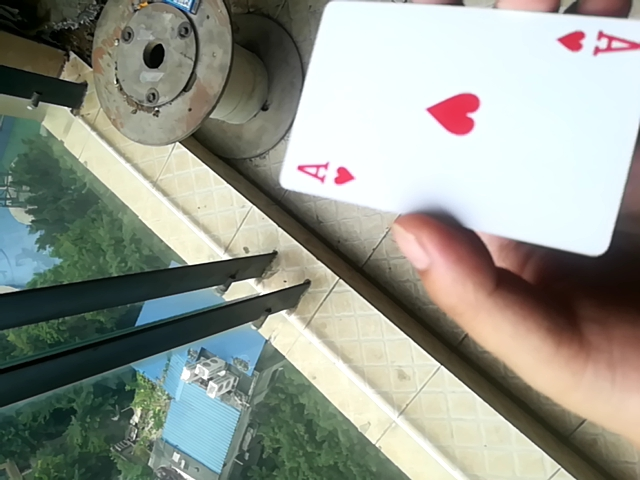hx a: (277, 2, 640, 262)
